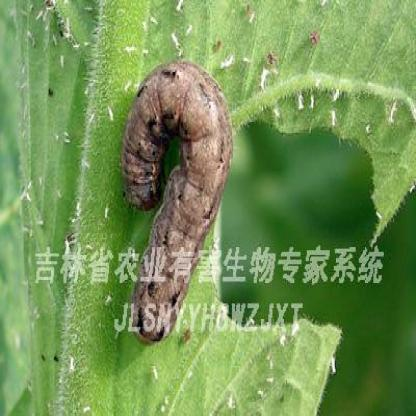armyworm: (118, 60, 236, 345)
